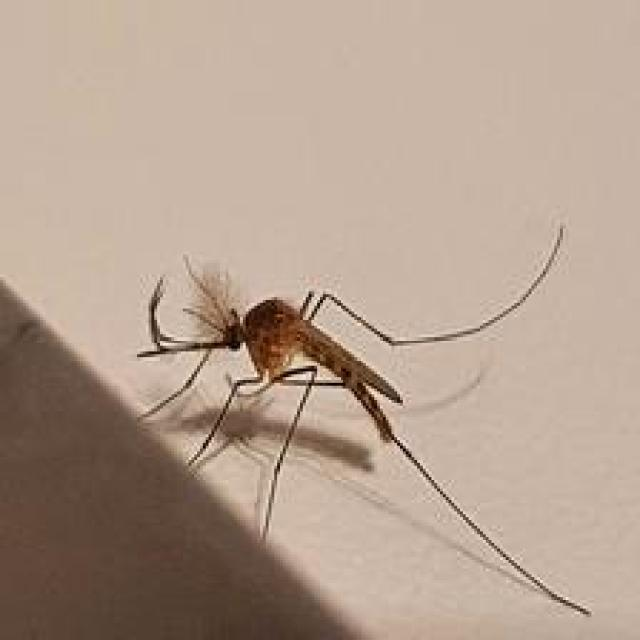Culex: (133, 222, 593, 618)
